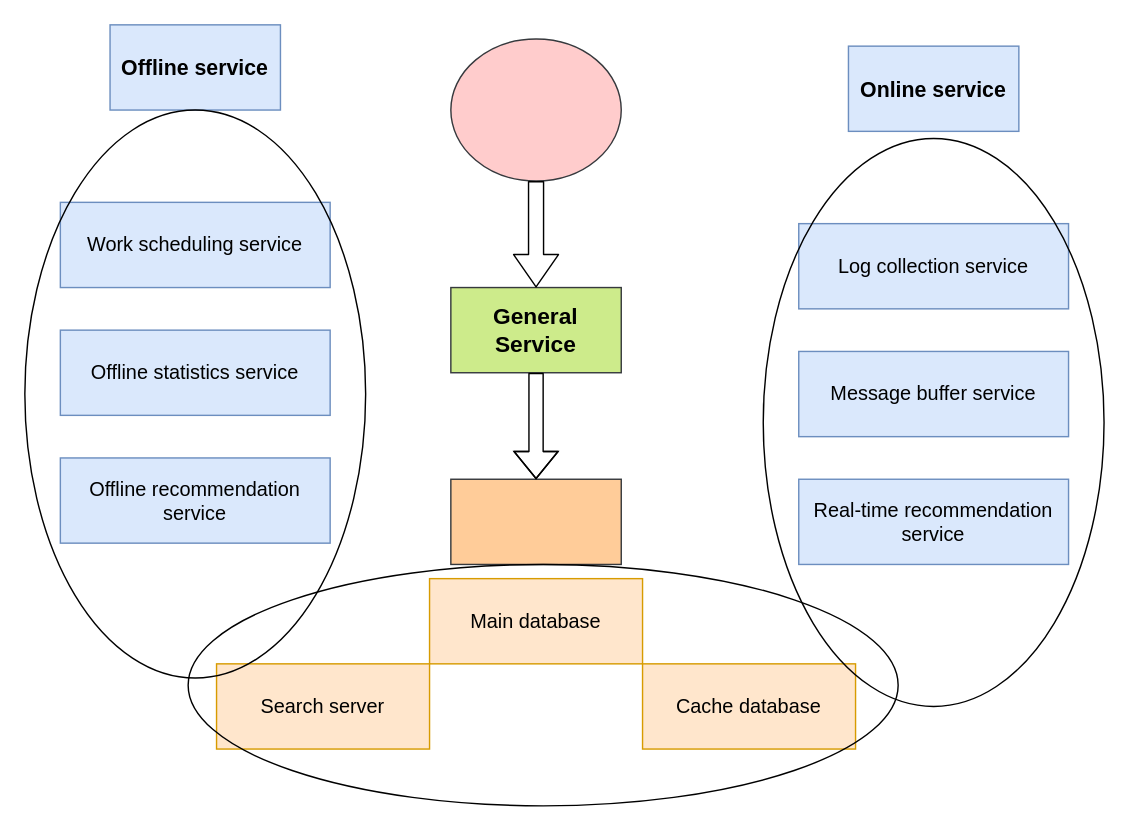
Image size: 1129x831. Some labels were removed from this diagram. Each missing label, with the centre of its shape:
"Nearline service" goes at point (535, 521).
"User visualization" goes at point (535, 109).
